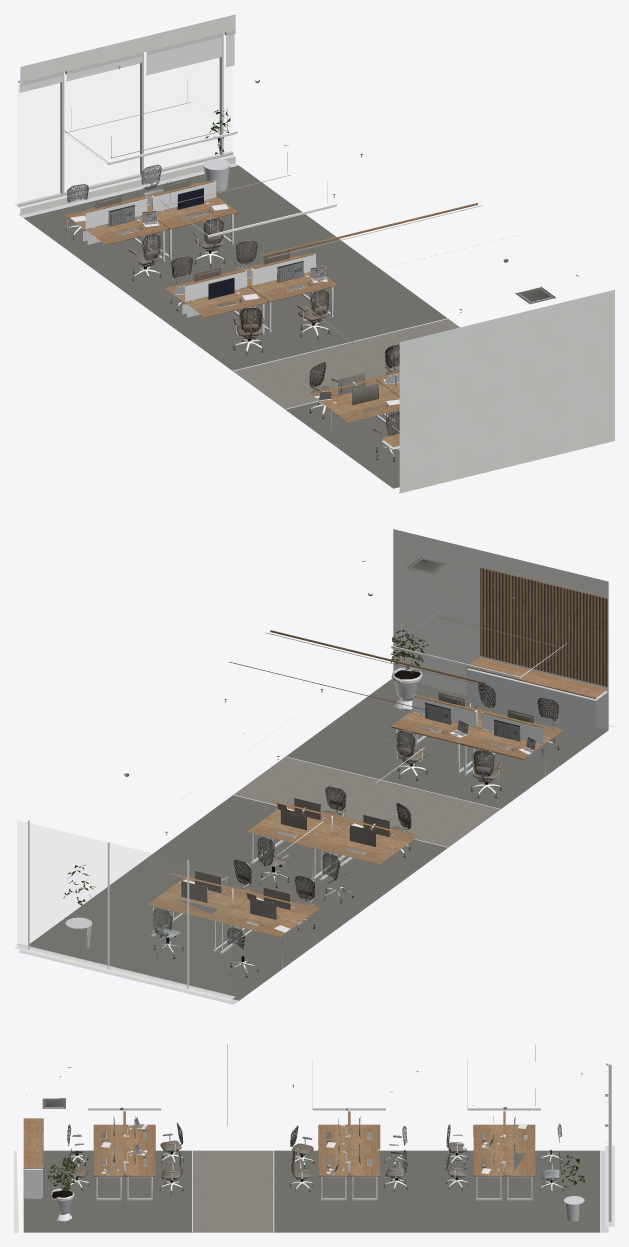
The model's file is z-open_c-lite.light.e5d4bef5.glb.
3 views of the same model, one above another, from view 1: azimuth 30°, elevation 25°; view 2: azimuth 150°, elevation 25°; view 3: azimuth 270°, elevation 25° (orthographic). The views are drawn at different scales.
Parts seen in each view (by area): view 1: open_c_carpet, open_c_plaster, open_c_satin, open_c_fx, open_c_oak, open_c_emit, open_c_metal_lit; view 2: open_c_carpet, open_c_plaster, open_c_oak, open_c_satin, open_c_fx, open_c_proxy_slat, open_c_emit, open_c_metal_lit, open_c_veg_atlas; view 3: open_c_carpet, open_c_oak, open_c_satin, open_c_fx, open_c_metal_lit, open_c_plaster, open_c_veg_atlas.
Part boxes in pixels (bbox=[...]): open_c_carpet: bbox=[24, 165, 459, 488]; open_c_plaster: bbox=[14, 14, 614, 493]; open_c_satin: bbox=[16, 30, 578, 449]; open_c_fx: bbox=[66, 66, 555, 462]; open_c_oak: bbox=[65, 180, 477, 446]; open_c_emit: bbox=[65, 102, 482, 341]; open_c_metal_lit: bbox=[23, 145, 399, 456]; open_c_carpet: bbox=[27, 678, 608, 1000]; open_c_plaster: bbox=[14, 529, 614, 1000]; open_c_oak: bbox=[147, 630, 608, 936]; open_c_satin: bbox=[16, 560, 607, 1004]; open_c_fx: bbox=[124, 557, 559, 977]; open_c_proxy_slat: bbox=[480, 568, 607, 686]; open_c_emit: bbox=[265, 566, 606, 856]; open_c_metal_lit: bbox=[161, 695, 552, 1000]; open_c_veg_atlas: bbox=[63, 630, 428, 905]; open_c_carpet: bbox=[23, 1150, 599, 1232]; open_c_oak: bbox=[23, 1044, 535, 1176]; open_c_satin: bbox=[23, 1044, 611, 1232]; open_c_fx: bbox=[42, 1071, 582, 1194]; open_c_metal_lit: bbox=[66, 1091, 600, 1232]; open_c_plaster: bbox=[14, 1145, 614, 1232]; open_c_veg_atlas: bbox=[48, 1155, 585, 1198].
Bounding box in the file's own units: 5 × 3.36 × 15.5.
10 materials, 7 textured.
